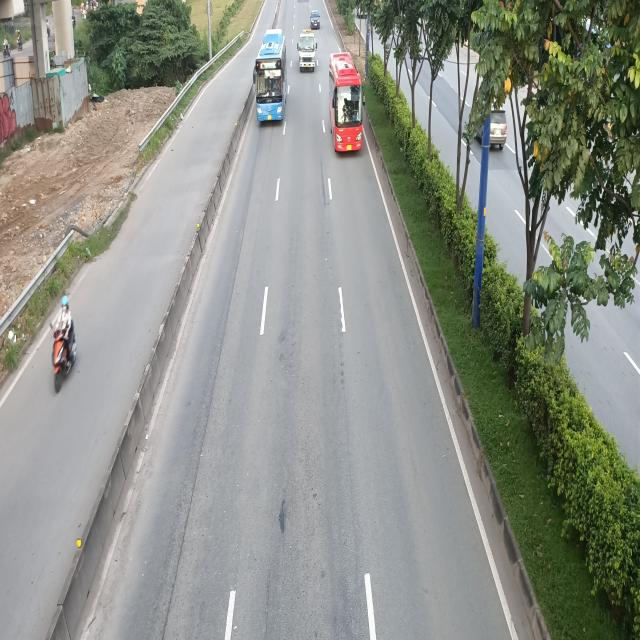coach: (330, 52, 367, 156), (253, 30, 288, 123)
truck: (298, 30, 317, 70)
